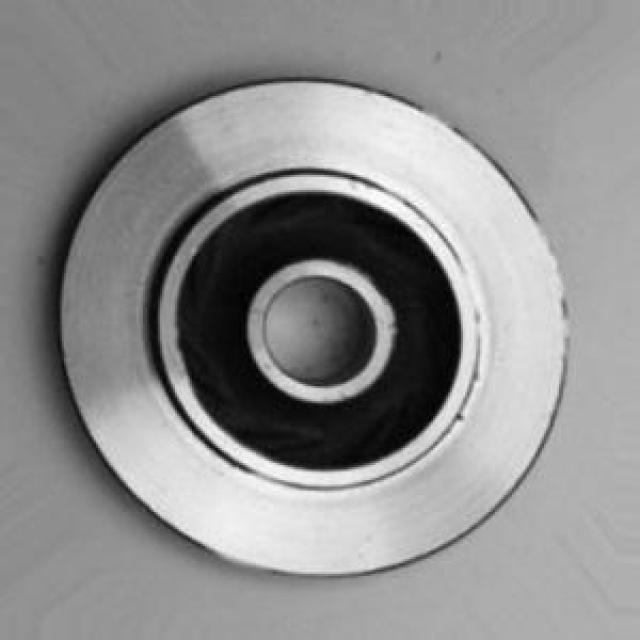Defect: (449, 406, 478, 435)
